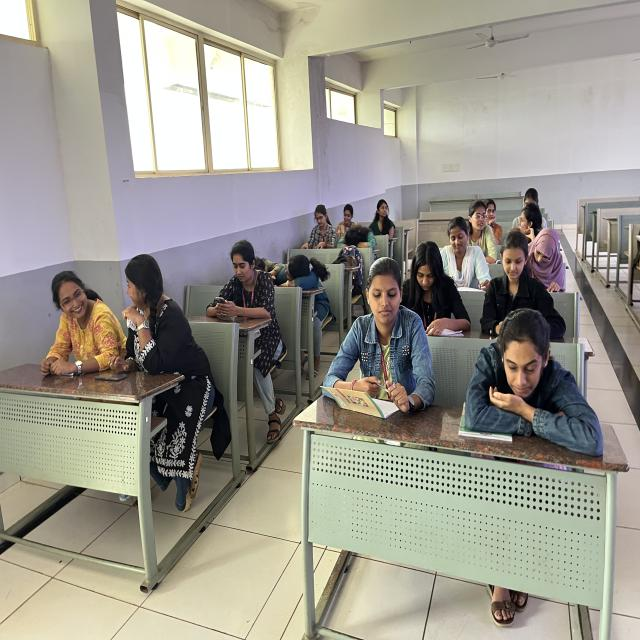Reading: (400, 233, 473, 341), (432, 215, 496, 293)
Sleeping: (457, 310, 609, 459), (266, 248, 340, 322), (334, 222, 386, 264)
Using Phone: (204, 236, 278, 338)
Writing: (319, 252, 434, 417), (521, 222, 569, 294)
